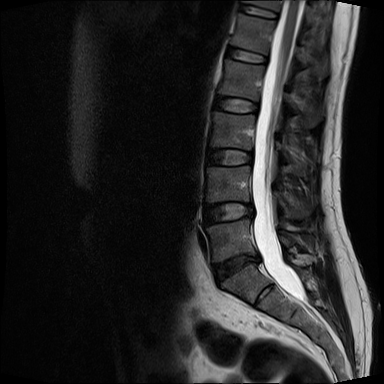Lumbar Disc Bulge (LDB): (208, 251, 267, 289), (196, 199, 260, 226)
Normal IVD: (202, 144, 255, 169), (211, 93, 261, 116), (223, 44, 270, 68), (234, 2, 281, 22)
Spinal Stenosis (SS): (240, 198, 264, 224), (249, 249, 266, 269)
